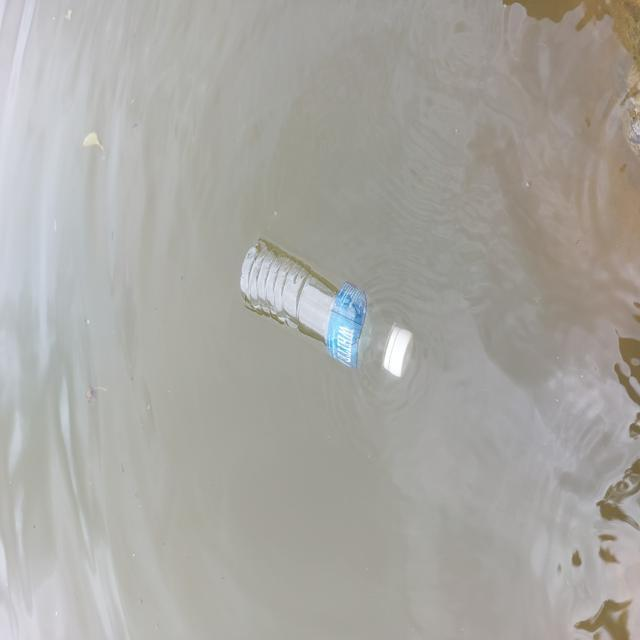waterbottle: (235, 234, 420, 392)
